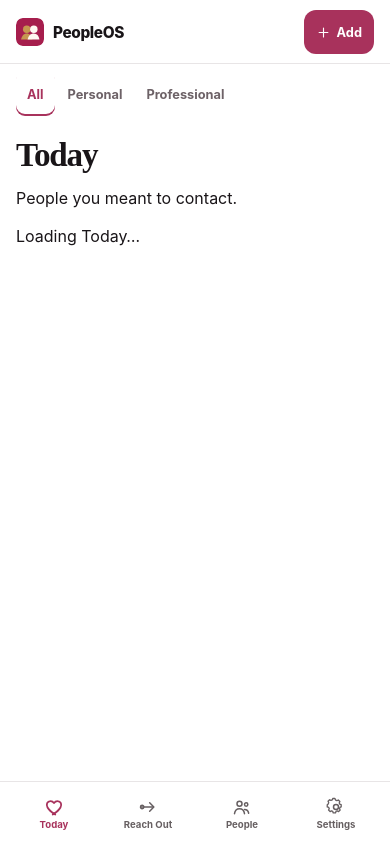
Scenario: PeopleOS shell › keeps destination headings visible while primary routes load
Expected: the header "Today" is shown, top-left (16, 136), bottom-right (237, 208)
Step 1. Click the link "People" → (242, 814), box top-left (226, 797), bottom-right (258, 830)
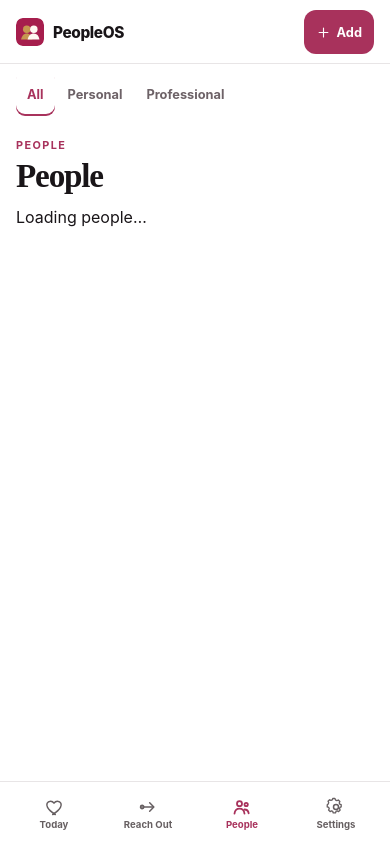
Expected: the header "People" is shown, top-left (16, 138), bottom-right (103, 194)
Step 2. Click the link "Reach Out" → (148, 814), box top-left (124, 797), bottom-right (172, 830)
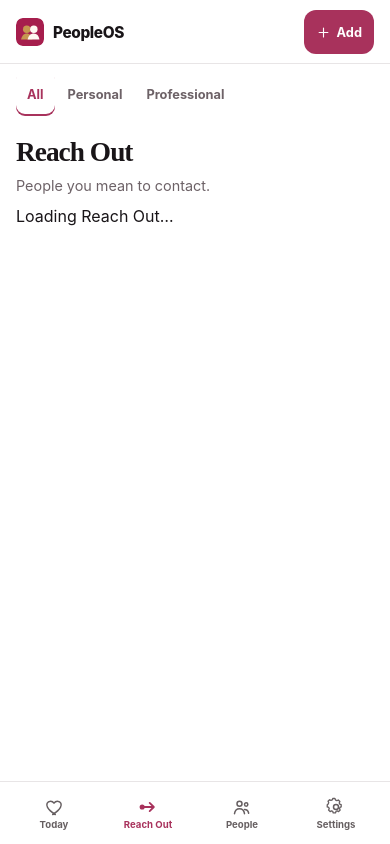
Now the header "Reach Out" is shown, box top-left (16, 137), bottom-right (210, 194)
